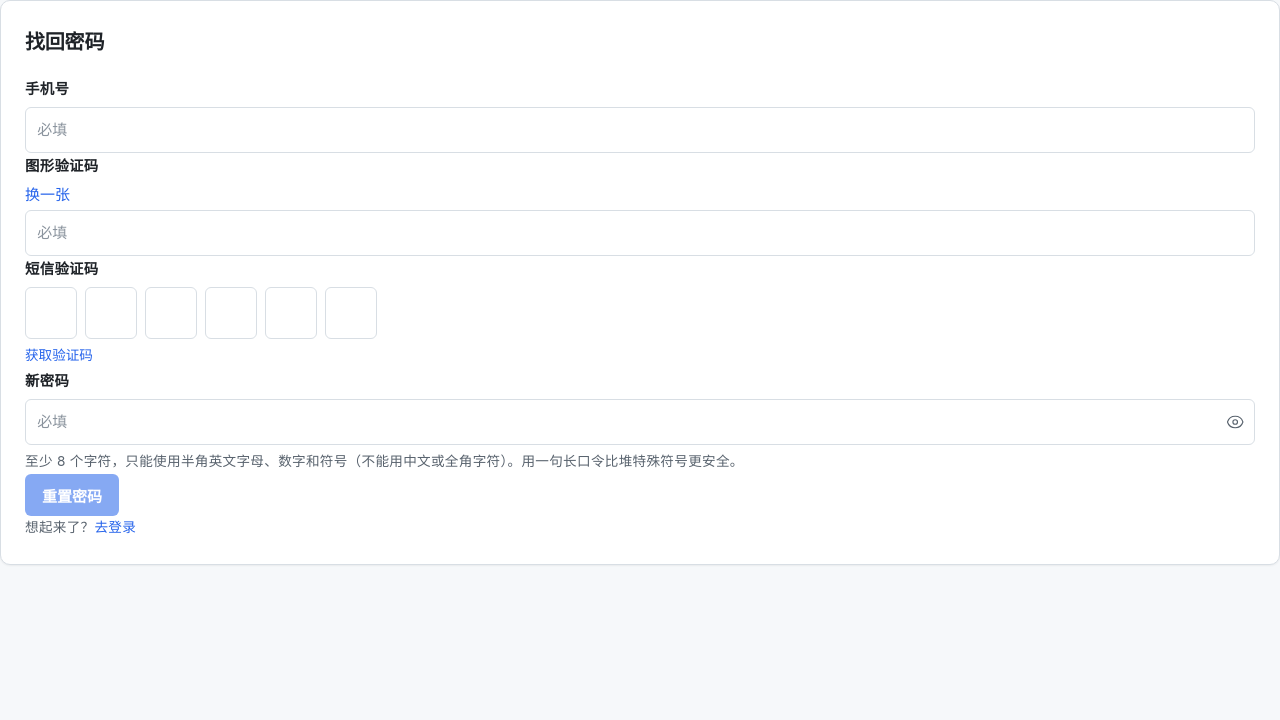
the reset page › says the password was changed and where to go, instead of signing anyone in
The width and height of the screenshot is (1280, 720).
Type "13800138000" into the field labelled "手机号" at (640, 130), box x1=25 y1=107 x2=1255 y2=153
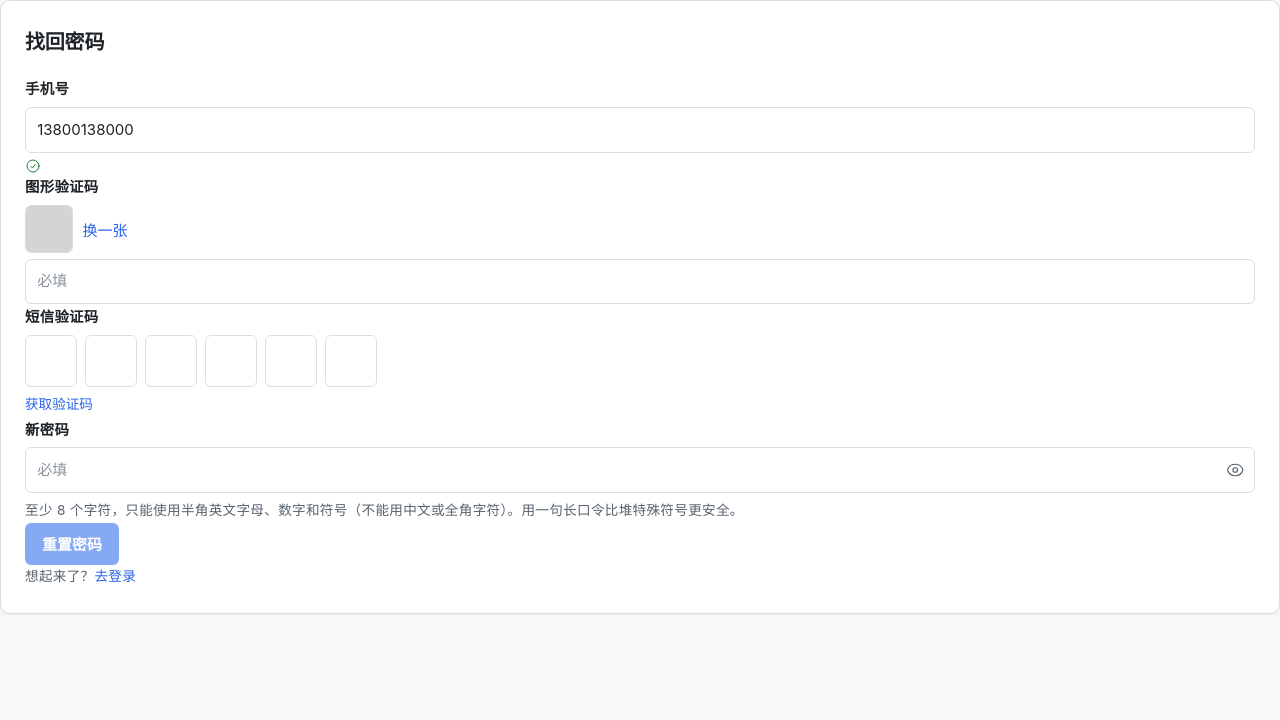
Type "TEST" into the field with id "captcha" at (640, 282), box x1=25 y1=259 x2=1255 y2=304
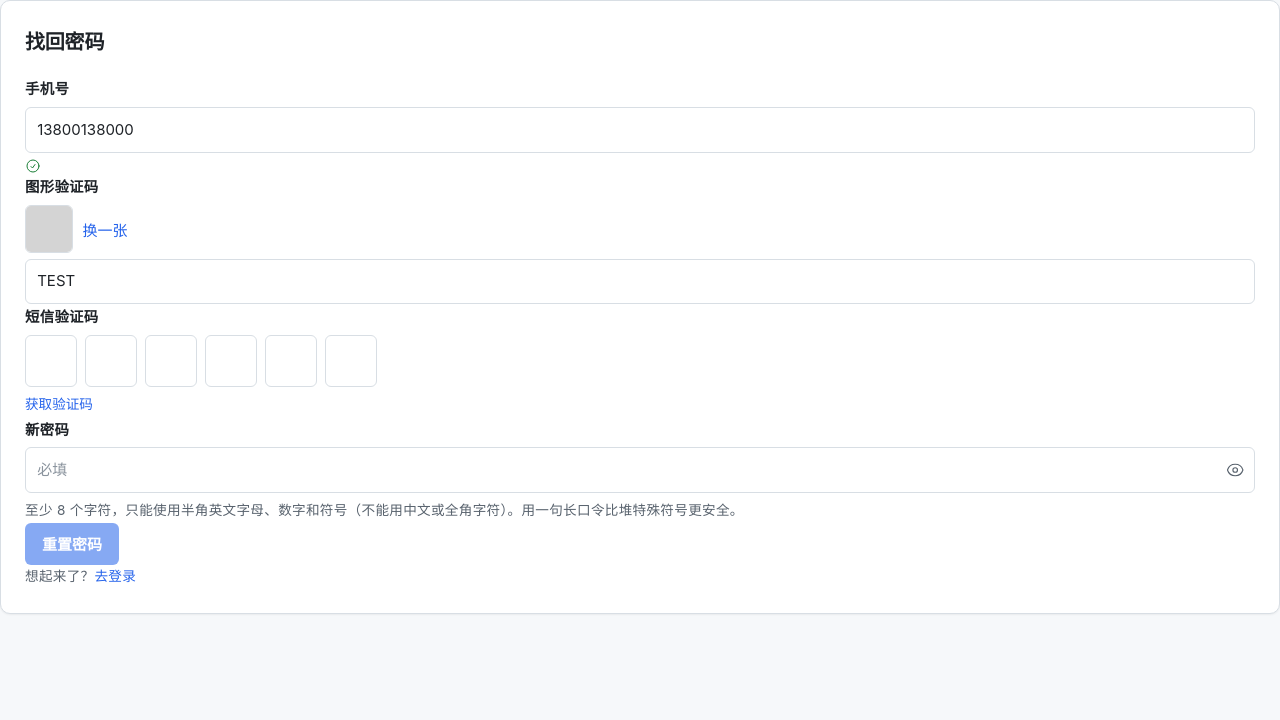
Click the button with class "resend" at (59, 403), box x1=25 y1=393 x2=93 y2=413
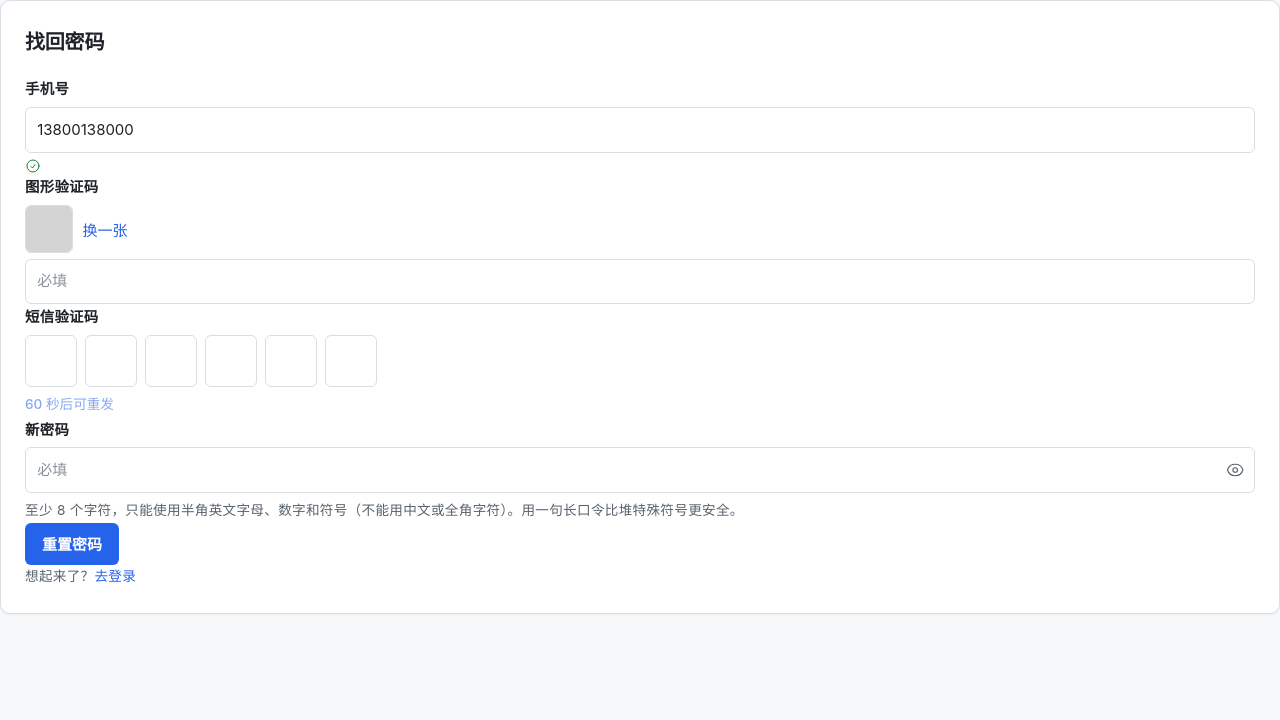
Type "123456" into the field with id "sms-code" at (640, 361), box x1=25 y1=335 x2=1255 y2=387
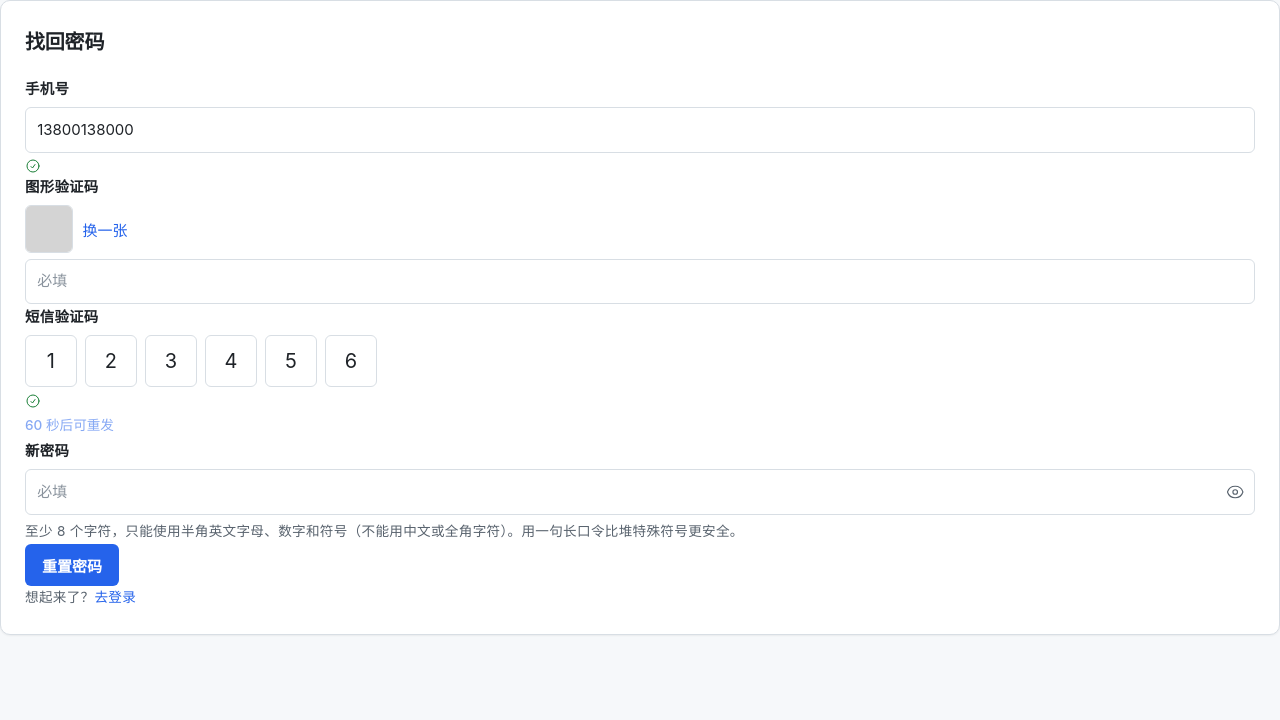
Type "a-different-long-password" into the password field labelled "新密码" at (640, 492), box x1=25 y1=469 x2=1255 y2=515
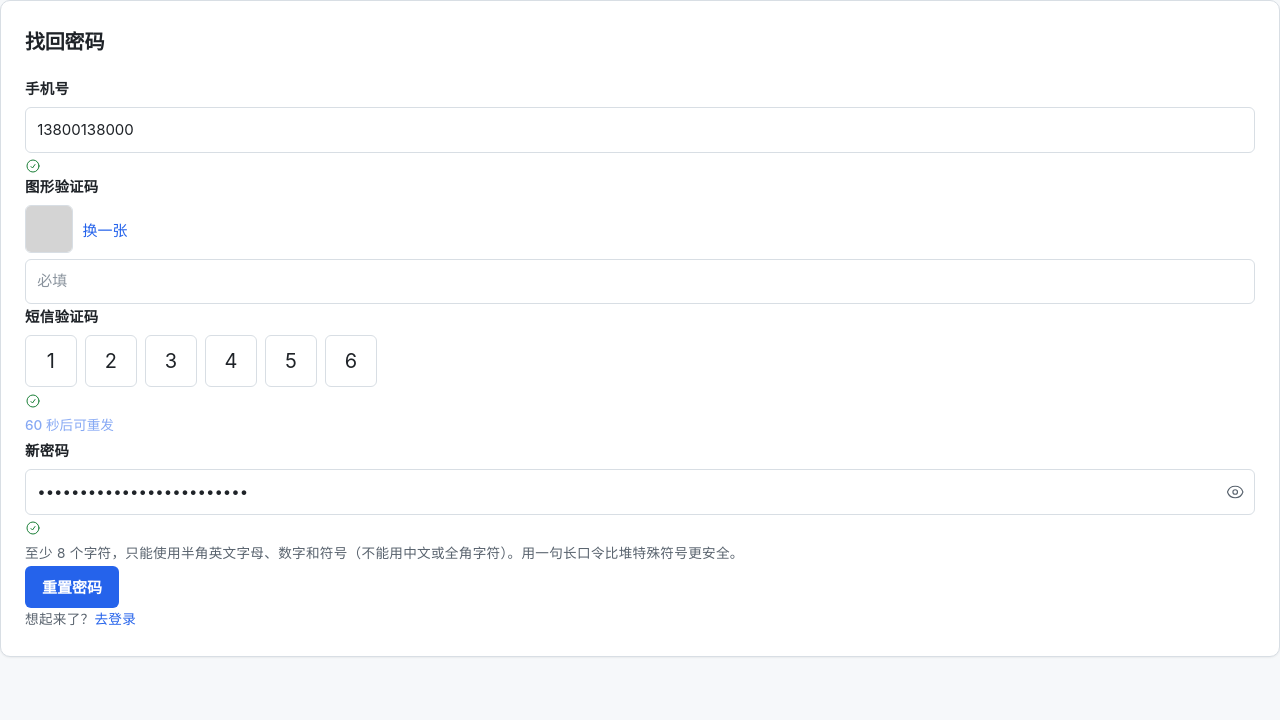
Submit the form
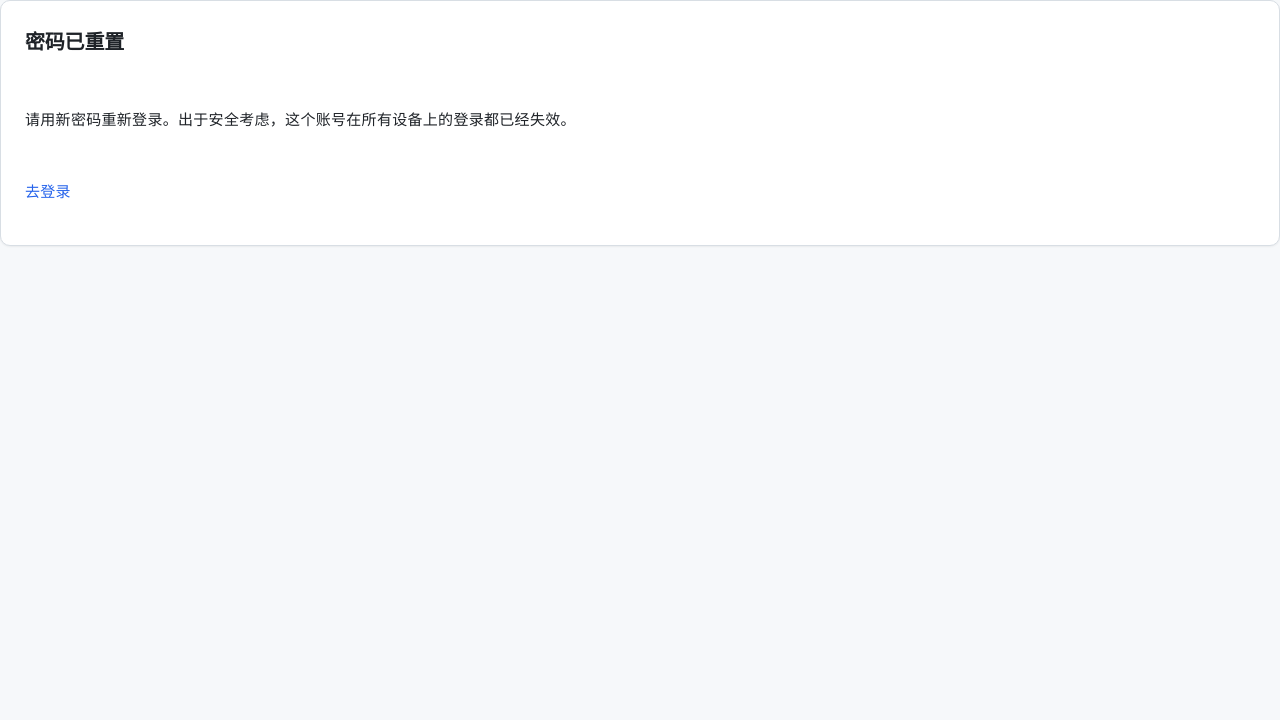
Expected: the link to "/login" is shown, x1=25 y1=182 x2=71 y2=201
Now the text "密码已重置" is shown, box x1=25 y1=30 x2=124 y2=54
Now the form is gone
